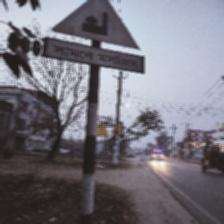Mosque in front: (46, 0, 143, 75)
